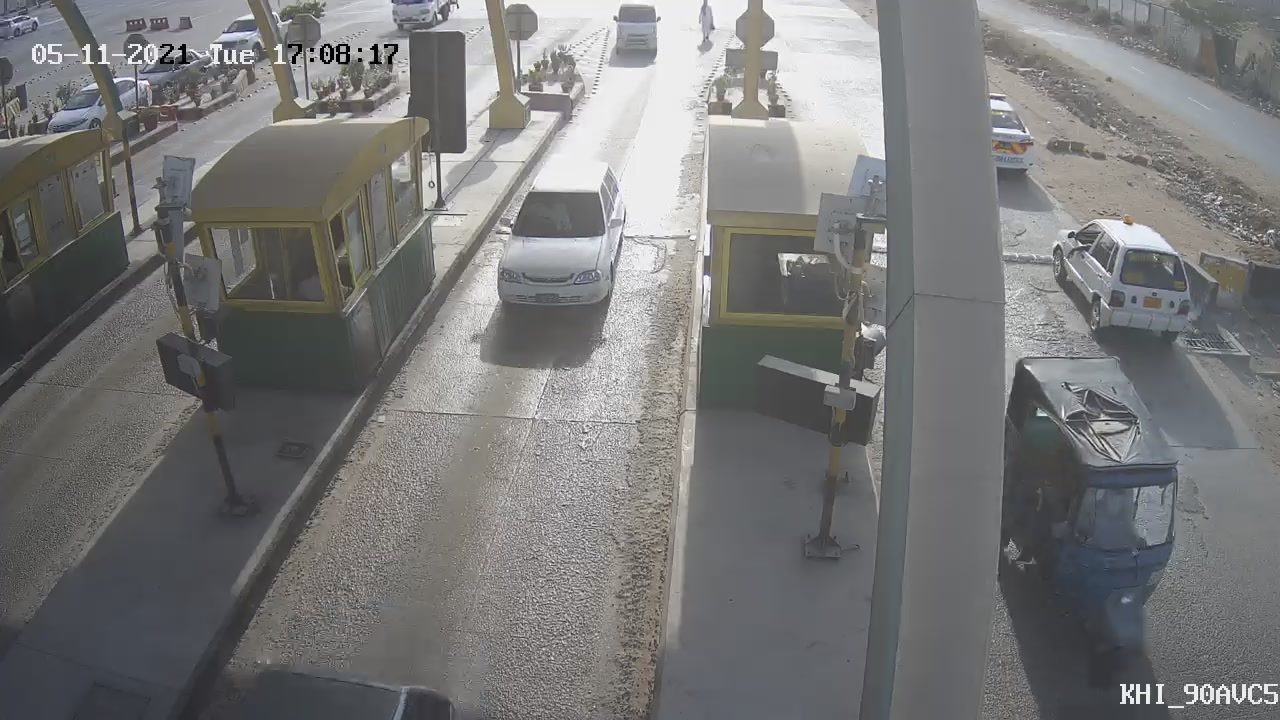F1: (472, 144, 644, 335)
